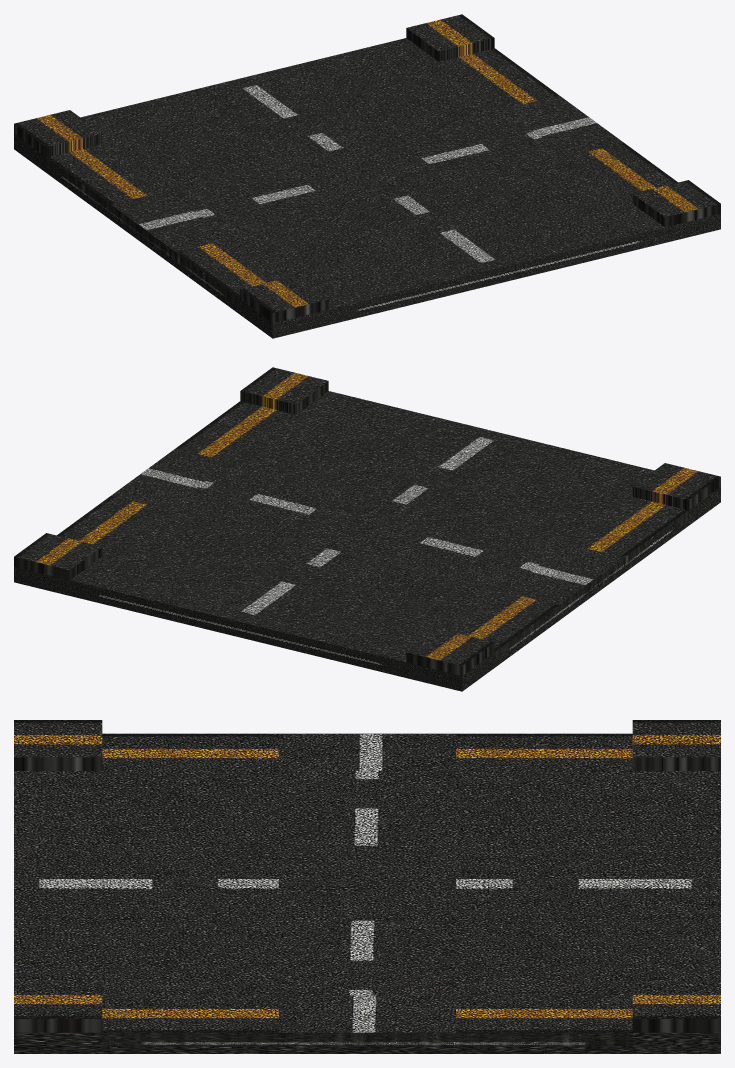
Rendered from Road_Crossroad.obj.
3 renders of one model, top to bottom at view 1: azimuth 30°, elevation 25°; view 2: azimuth 150°, elevation 25°; view 3: azimuth 270°, elevation 25°, orthographic. The views are drawn at different scales.
Parts seen in each view (by area): view 1: Cube.001; view 2: Cube.001; view 3: Cube.001.
Boxes of the visible parts, x1,y1,x2,y2 form: Cube.001: (14, 14, 720, 338); Cube.001: (14, 367, 720, 691); Cube.001: (14, 720, 720, 1053).
Size of the model in its own units: 60 by 3.28 by 60.
